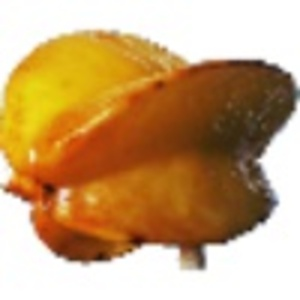carambola: (1, 27, 300, 272)
